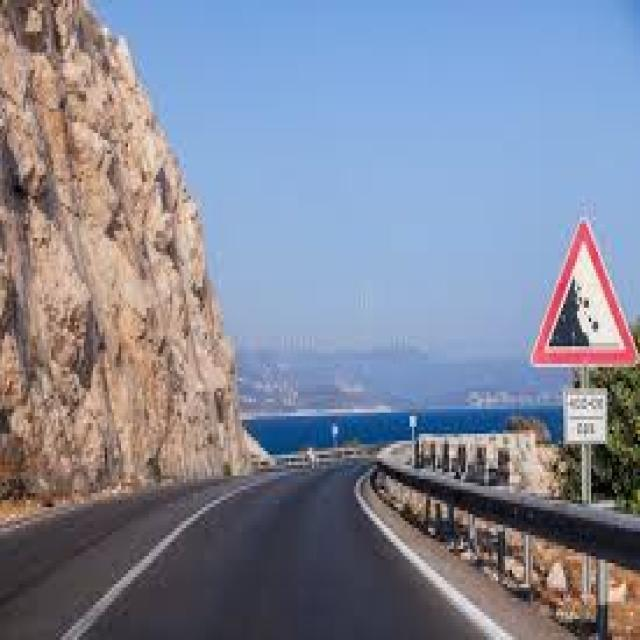falling rocks: (527, 218, 637, 372)
